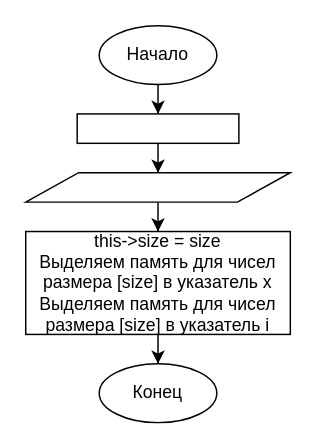
This 316x448 diagram has some shape labels left out. Each missing label, with the centre of its shape:
"Получение числа size" goes at (x=157, y=186).
"Целове число size" goes at (x=157, y=127).
